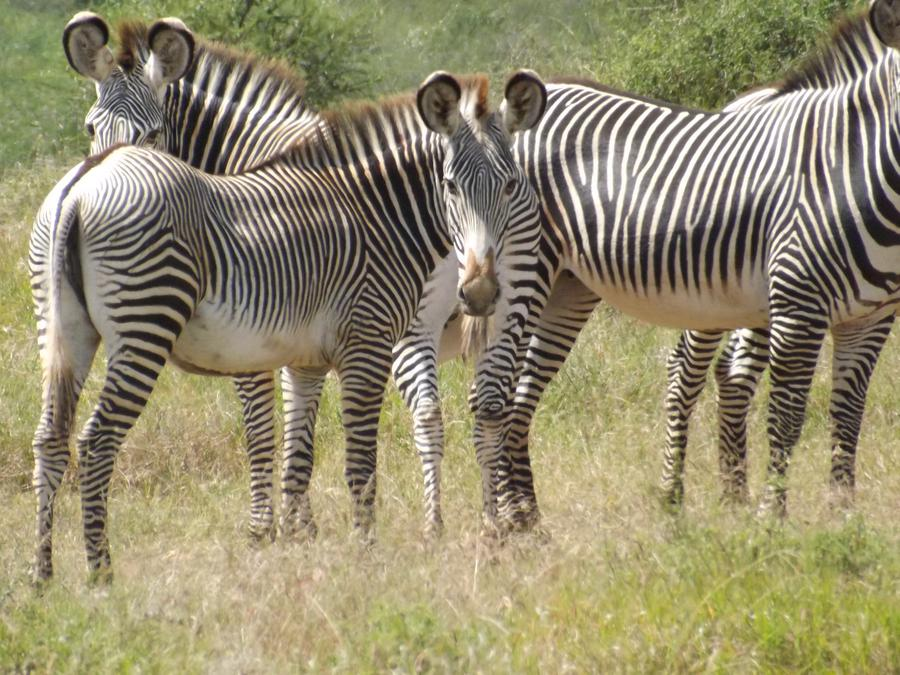zebra_grevys: (538, 48, 864, 310)
